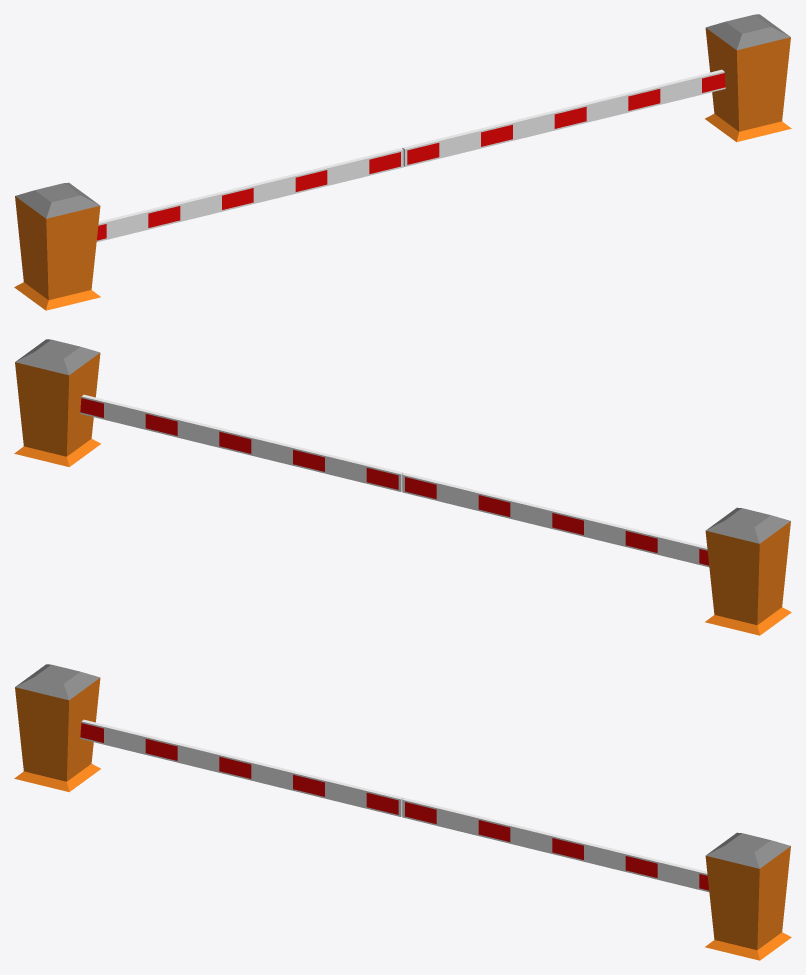
Rendered from Gate_001.fbx.
The picture shows the model from 3 angles, top to bottom: view 1: azimuth 30°, elevation 25°; view 2: azimuth 150°, elevation 25°; view 3: azimuth 330°, elevation 25°; orthographic projection.
Parts seen in each view (by area): view 1: Gate_Housing, Gate_Left, Gate_Right; view 2: Gate_Housing, Gate_Left, Gate_Right; view 3: Gate_Housing, Gate_Right, Gate_Left.
Part boxes in pixels (left/top/right/bottom): Gate_Housing: left=14, top=14, right=791, bottom=310; Gate_Left: left=402, top=69, right=725, bottom=166; Gate_Right: left=96, top=148, right=403, bottom=242; Gate_Housing: left=14, top=339, right=791, bottom=635; Gate_Left: left=80, top=394, right=403, bottom=491; Gate_Right: left=402, top=473, right=709, bottom=567; Gate_Housing: left=14, top=664, right=791, bottom=960; Gate_Right: left=80, top=719, right=403, bottom=816; Gate_Left: left=402, top=798, right=709, bottom=892.
Size of the model in its own units: 908 by 116 by 67.5.
